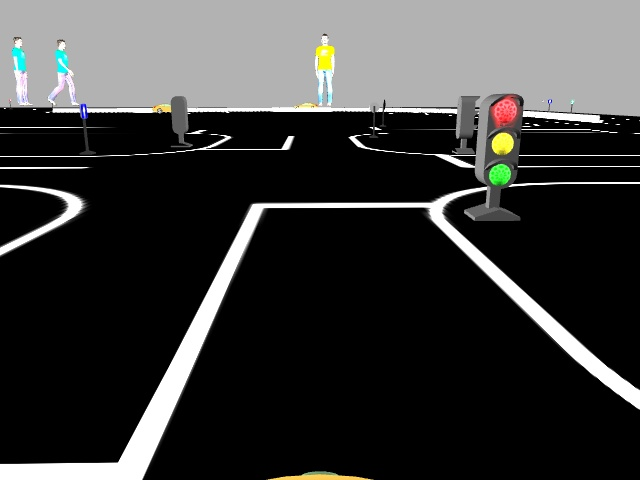TrafficLight: (474, 93, 525, 188)
